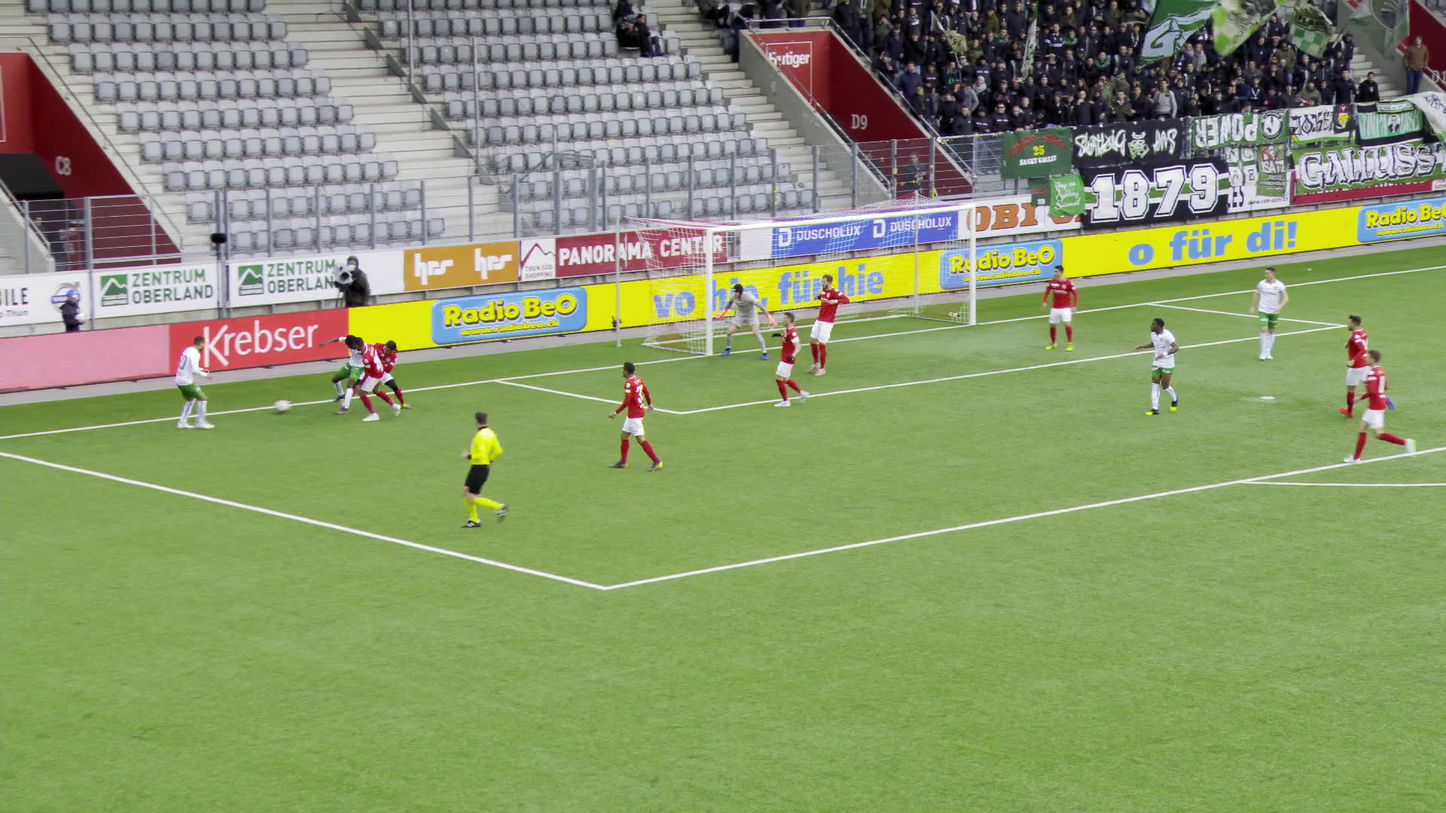ball: (284, 398, 303, 414)
player: (1347, 348, 1423, 472), (600, 359, 665, 475), (165, 331, 227, 433), (705, 282, 779, 361), (1341, 310, 1391, 425), (764, 306, 817, 411), (346, 331, 407, 421), (803, 271, 852, 381), (1130, 313, 1181, 417), (345, 336, 403, 427), (315, 330, 374, 418), (1240, 263, 1287, 362), (1036, 262, 1078, 354)
referee: (449, 401, 521, 531)
